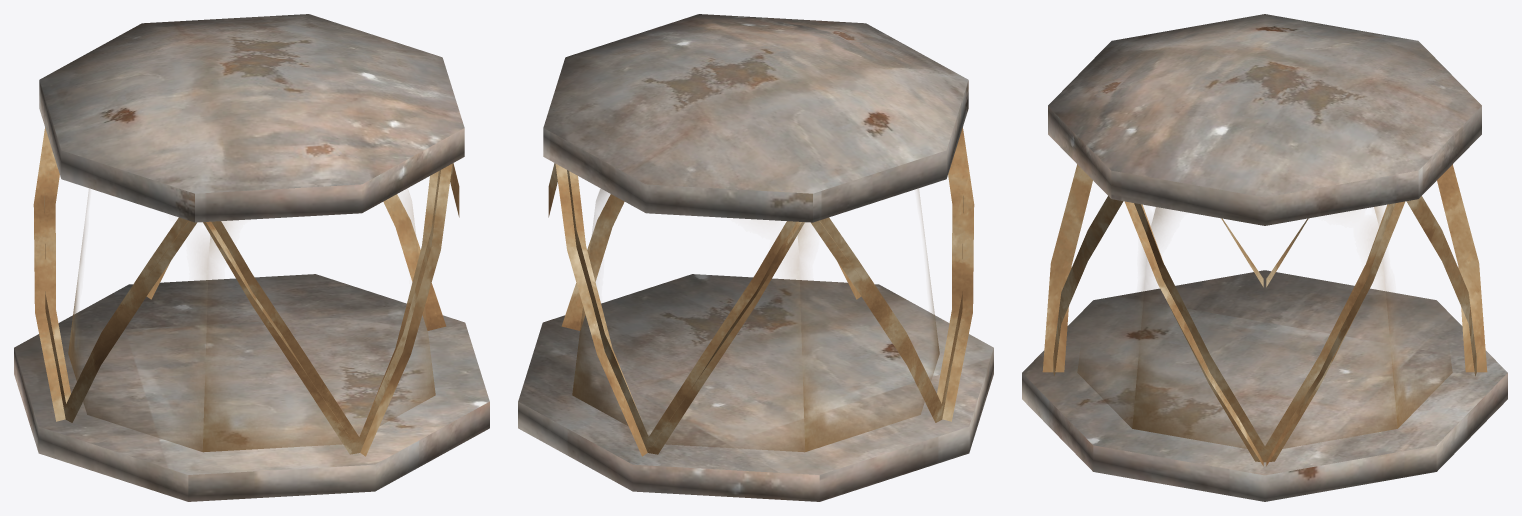
The model's file is buoy_lantern.glb.
3 renders of one model, left to right at view 1: azimuth 30°, elevation 25°; view 2: azimuth 150°, elevation 25°; view 3: azimuth 270°, elevation 25°, orthographic.
Visible parts, largest first — view 1: lighthouseRoof_diff.jpg__, metaldirt_diff.png__, lighthousWindows_diff.png__; view 2: lighthouseRoof_diff.jpg__, metaldirt_diff.png__, lighthousWindows_diff.png__; view 3: lighthouseRoof_diff.jpg__, metaldirt_diff.png__, lighthousWindows_diff.png__.
Part boxes in pixels (<box>): lighthouseRoof_diff.jpg__: <box>14,14,489,501</box>; metaldirt_diff.png__: <box>33,127,459,456</box>; lighthousWindows_diff.png__: <box>68,189,435,452</box>; lighthouseRoof_diff.jpg__: <box>518,14,993,501</box>; metaldirt_diff.png__: <box>548,127,974,456</box>; lighthousWindows_diff.png__: <box>572,188,939,452</box>; lighthouseRoof_diff.jpg__: <box>1022,14,1507,501</box>; metaldirt_diff.png__: <box>1042,164,1487,466</box>; lighthousWindows_diff.png__: <box>1077,206,1452,448</box>.
Size of the model in its own units: 1.92 by 1.52 by 1.92.
3 materials, 3 textured.
